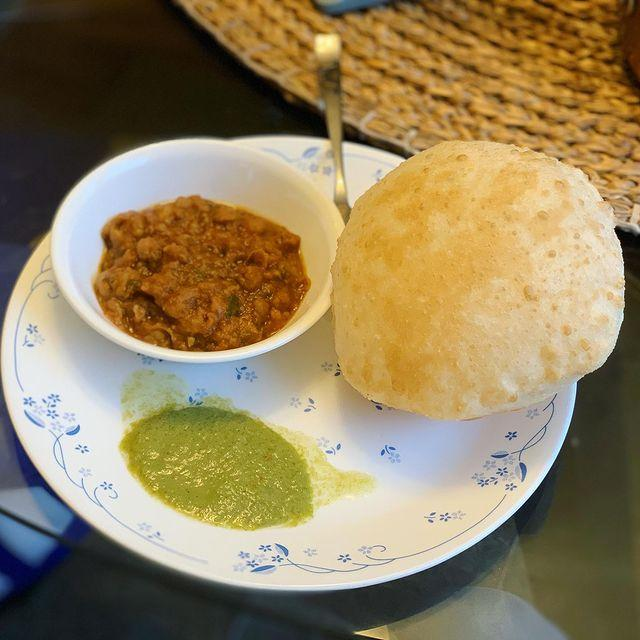Chole: (90, 191, 294, 351)
